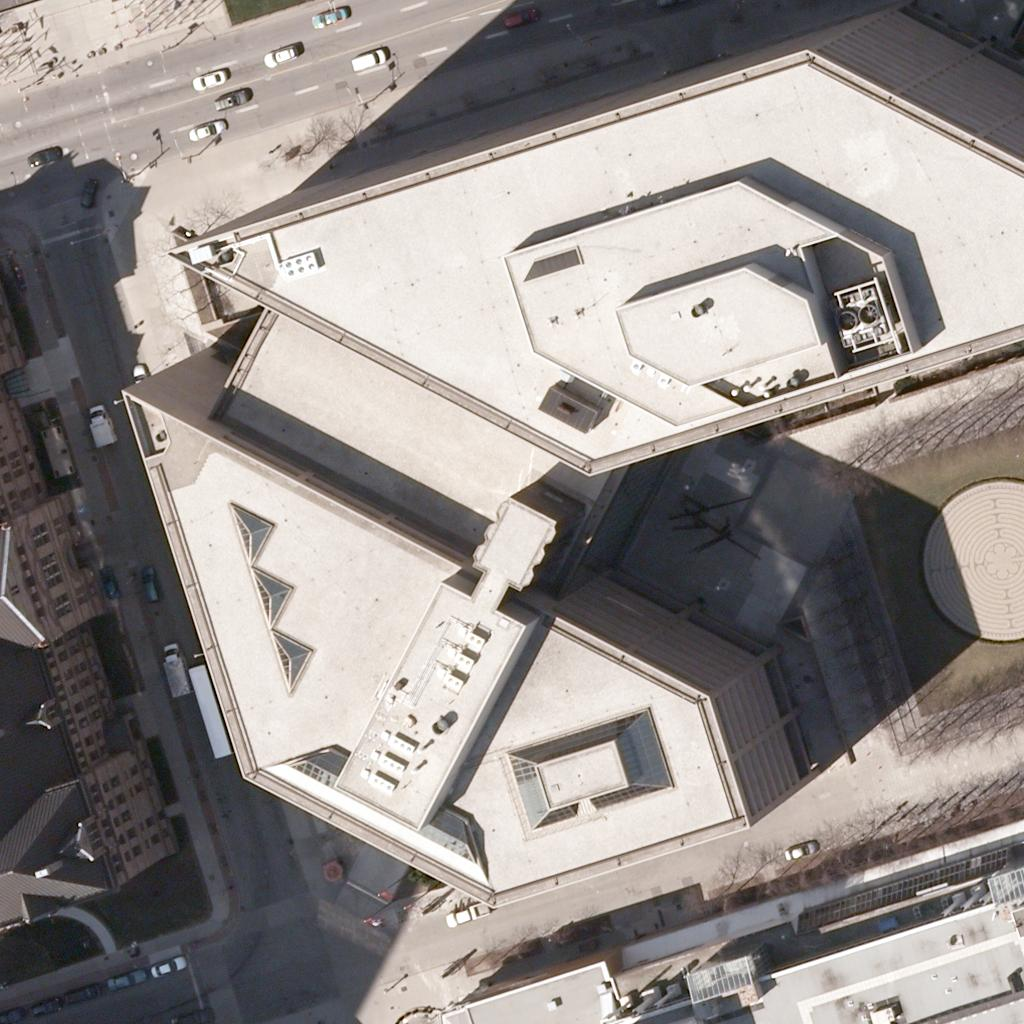car: (313, 0, 347, 34), (498, 0, 532, 34), (259, 39, 293, 73), (353, 42, 387, 76), (192, 61, 226, 95), (212, 80, 246, 114), (210, 83, 244, 117), (186, 113, 220, 147), (21, 139, 55, 173), (71, 177, 105, 211), (79, 404, 113, 438), (88, 566, 122, 600), (131, 567, 165, 601), (153, 641, 187, 675), (780, 834, 814, 868), (439, 902, 473, 936), (147, 950, 181, 984), (105, 962, 139, 996), (65, 975, 99, 1009), (25, 987, 59, 1021), (175, 1000, 209, 1024), (649, 0, 683, 16), (0, 1001, 19, 1024)
